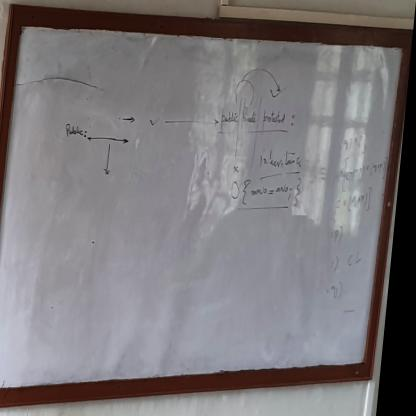Handwritten text: (259, 146, 308, 174), (263, 109, 293, 135), (65, 118, 88, 147), (221, 109, 243, 137), (244, 104, 263, 132)
Whiteboard: (0, 11, 405, 416)
